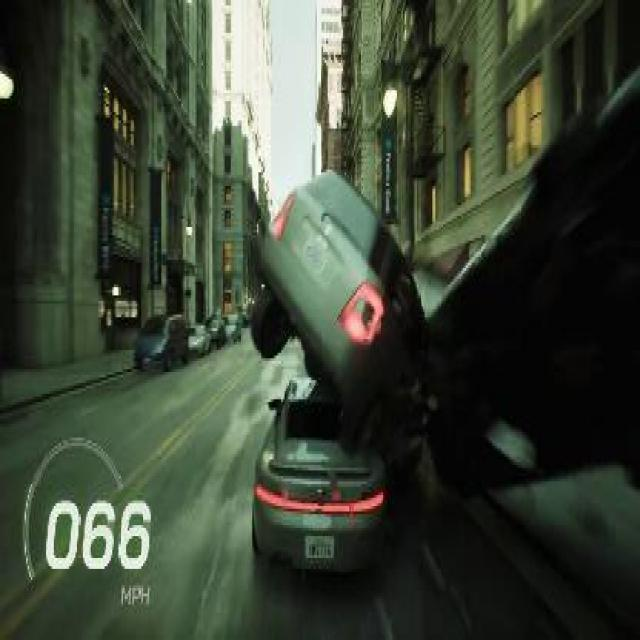accident: (244, 161, 430, 591)
